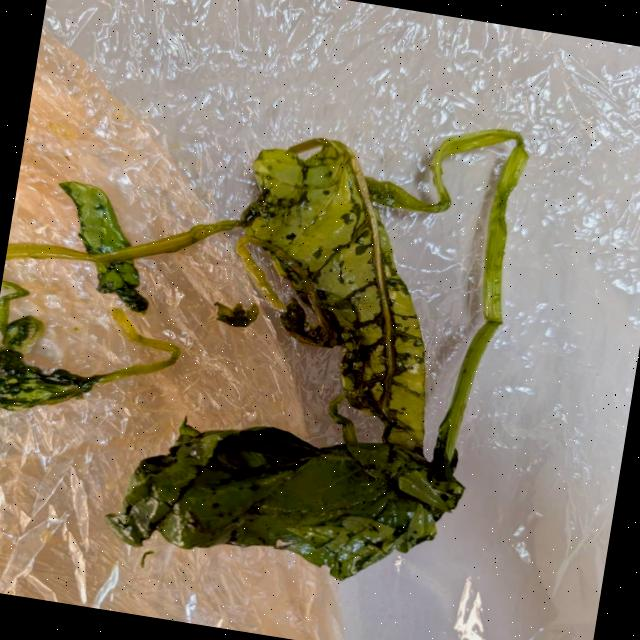rotten spinach: (0, 29, 555, 638)
